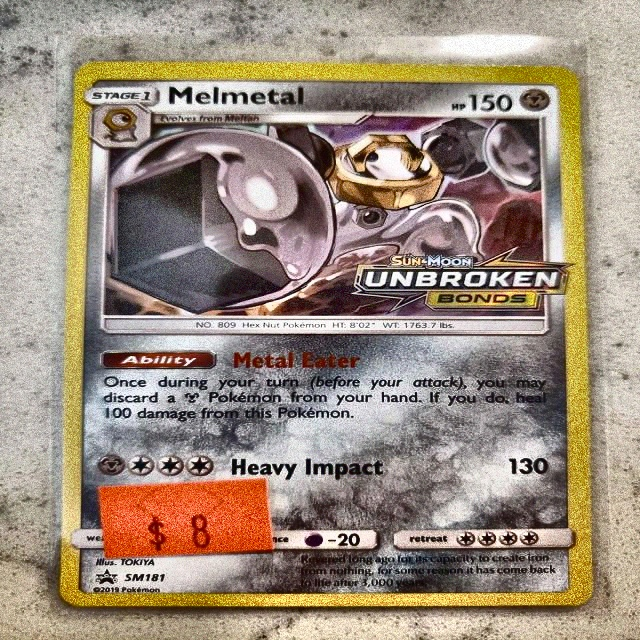card: (56, 59, 595, 609)
